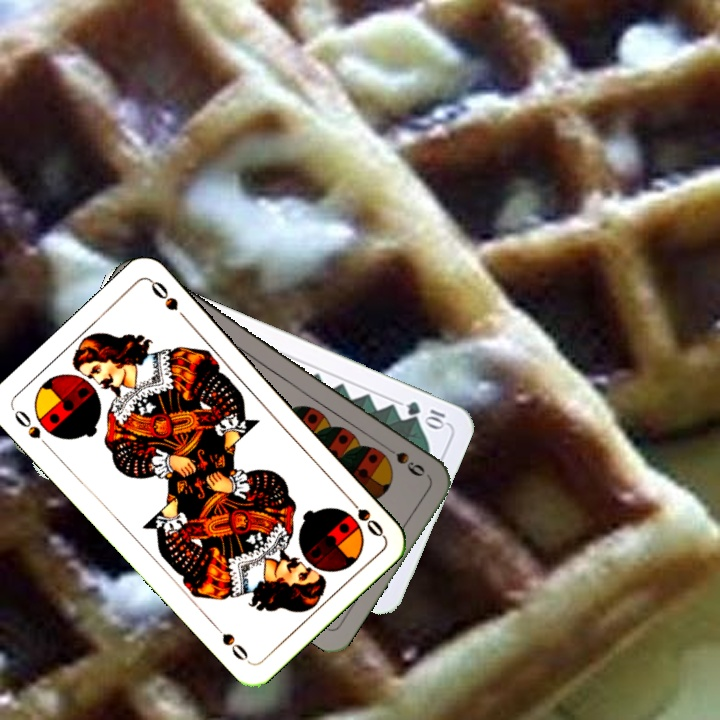G10: (402, 397, 450, 432)
S9: (378, 439, 428, 480)
SO: (342, 491, 386, 540), (10, 406, 54, 452)
